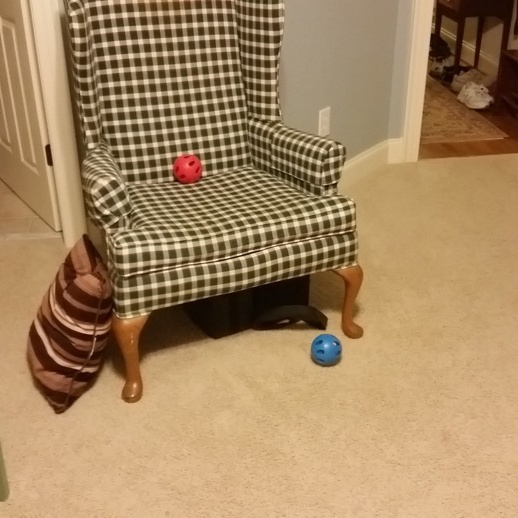blueball: (307, 329, 345, 368)
redball: (170, 151, 205, 185)
